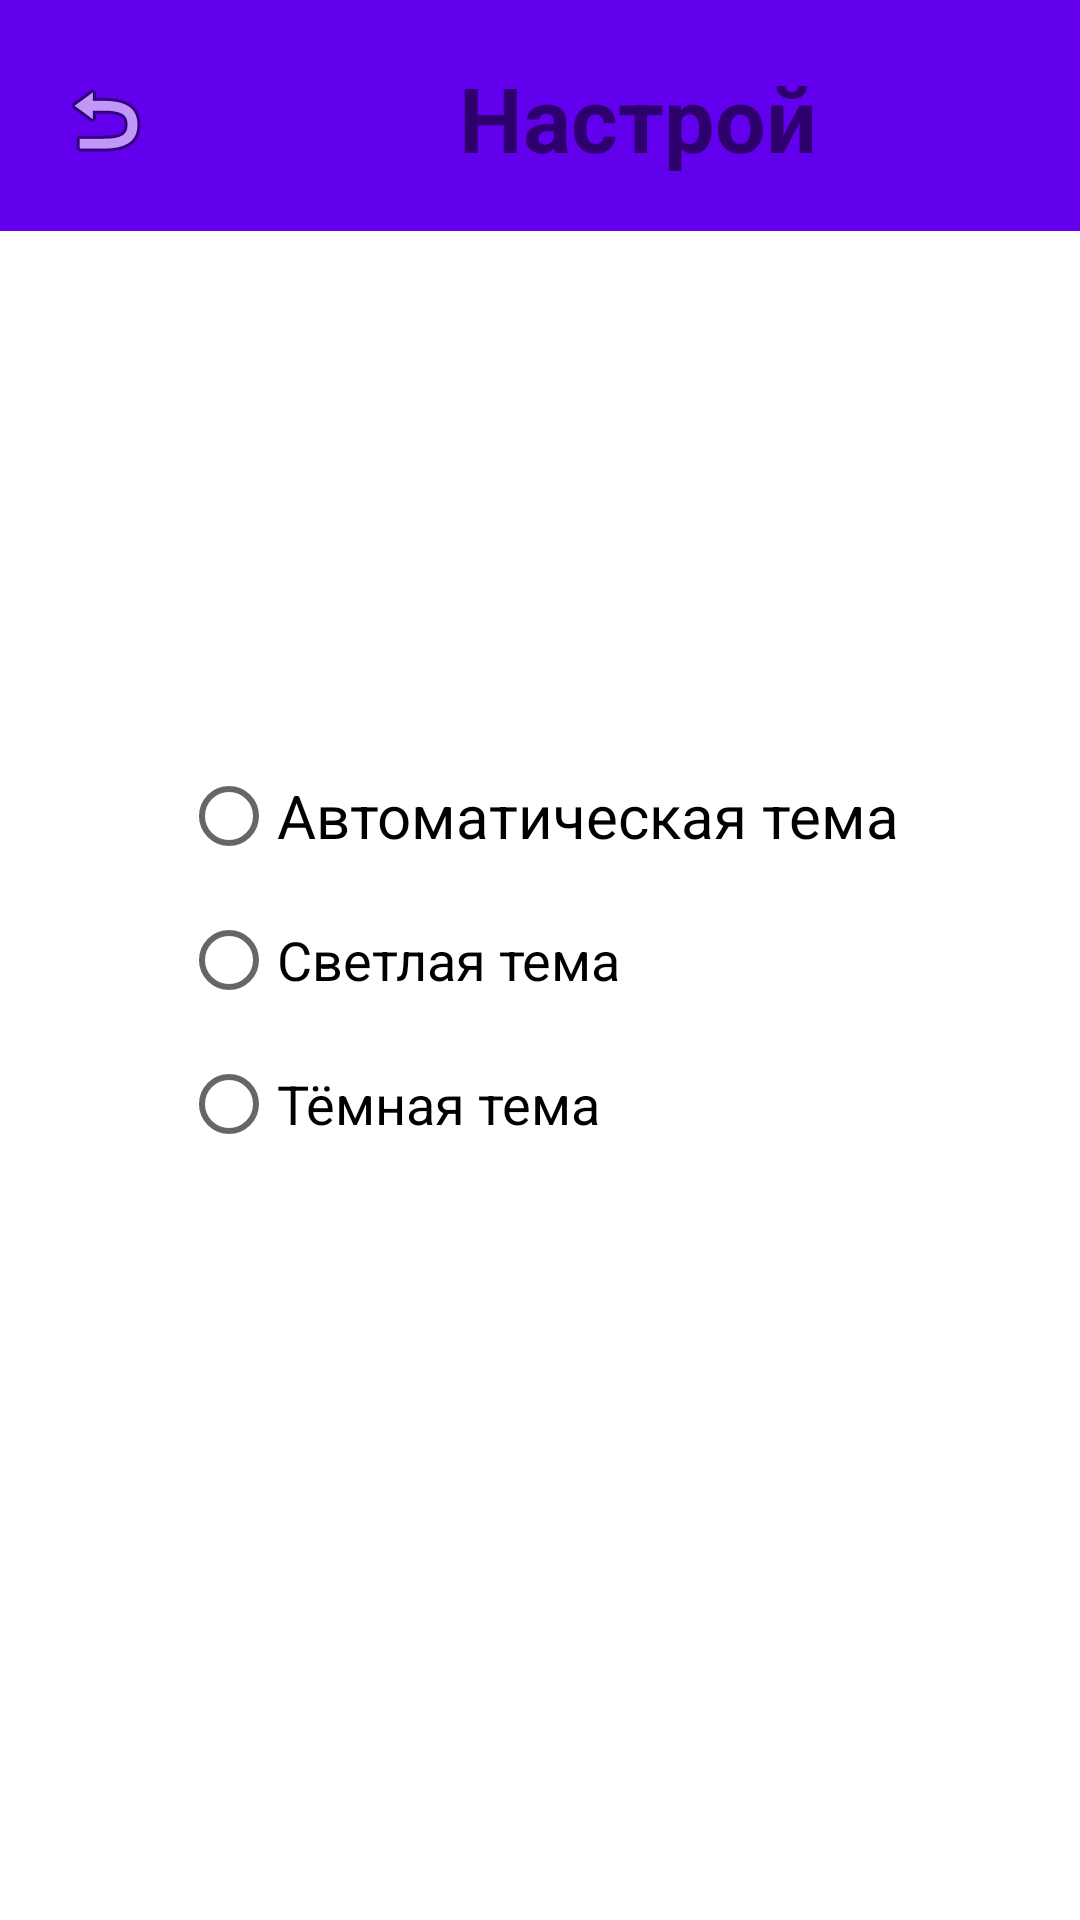

Named icons in this screenshot (1080×1920) and their bounding boxes, (x1, y1, x2, y2):
revert: (72, 89, 141, 152)
